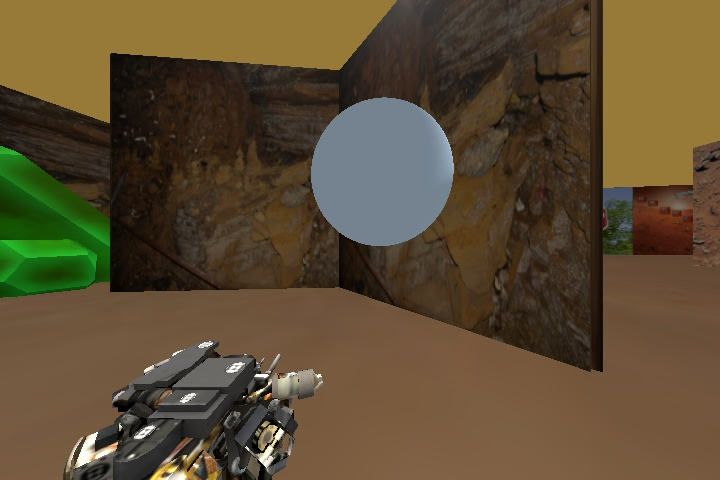gem: (0, 147, 112, 294)
sphere: (308, 97, 454, 246)
